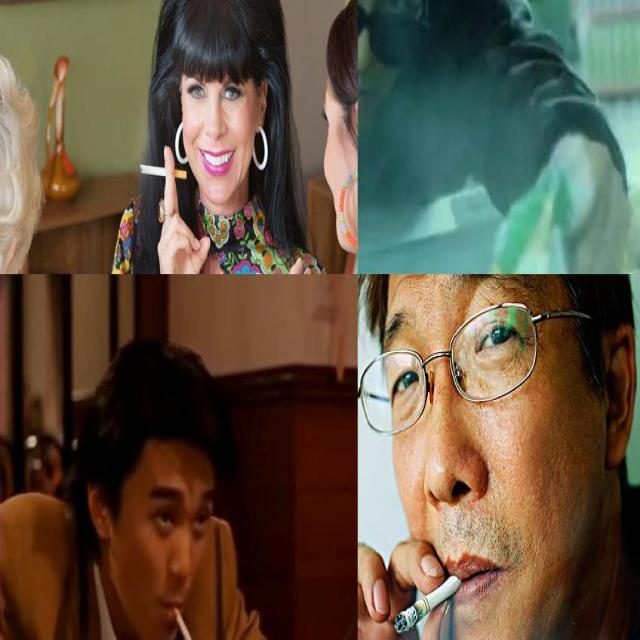smoking: (392, 564, 473, 638), (168, 592, 206, 639), (138, 164, 188, 181)
